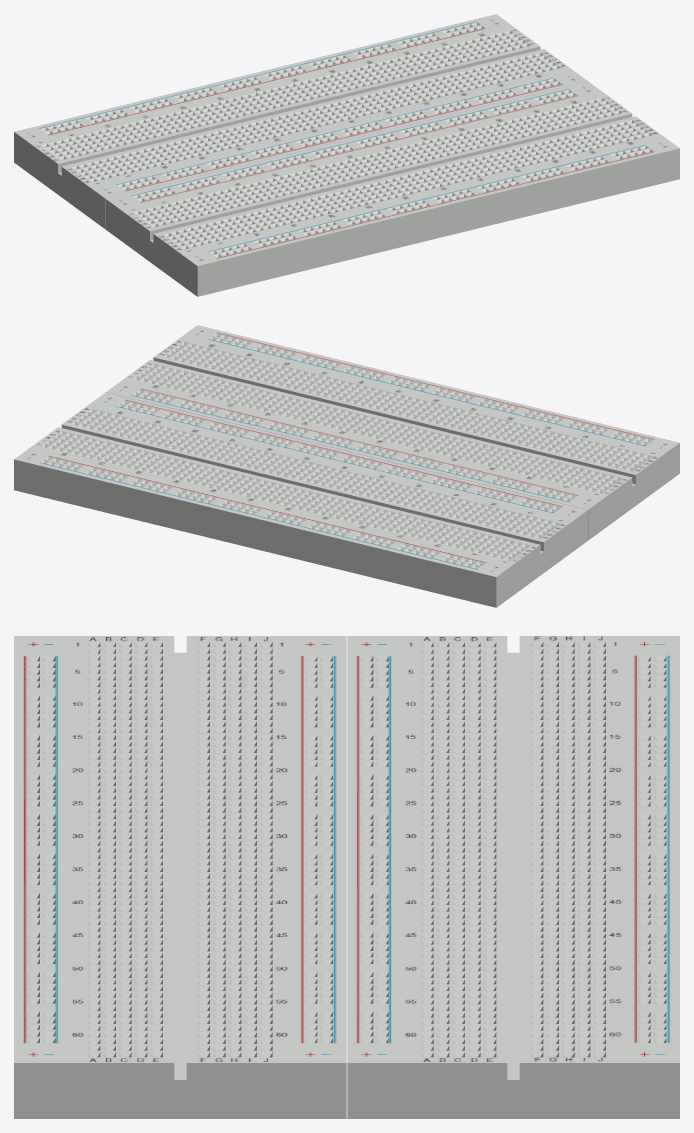
The model's file is Breadboard_Double.fbx.
3 renders of one model, top to bottom at view 1: azimuth 30°, elevation 25°; view 2: azimuth 150°, elevation 25°; view 3: azimuth 270°, elevation 25°, orthographic. The views are drawn at different scales.
Visible parts, largest first — view 1: Breadboard.Double; view 2: Breadboard.Double; view 3: Breadboard.Double.
Part boxes in pixels (box(x1,y1,x2,y2)): Breadboard.Double: box(14, 14, 679, 296); Breadboard.Double: box(14, 325, 679, 607); Breadboard.Double: box(14, 636, 679, 1118).
Size of the model in its own units: 0.164 by 0.01 by 0.1081.
